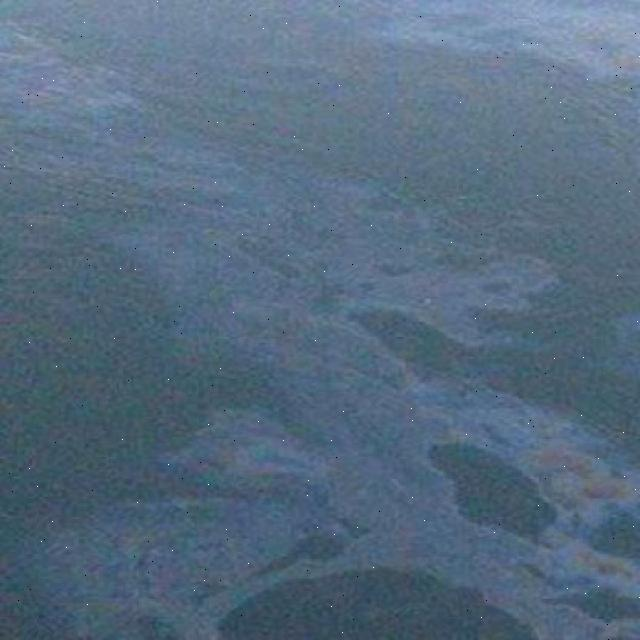sheen: (16, 192, 626, 640)
